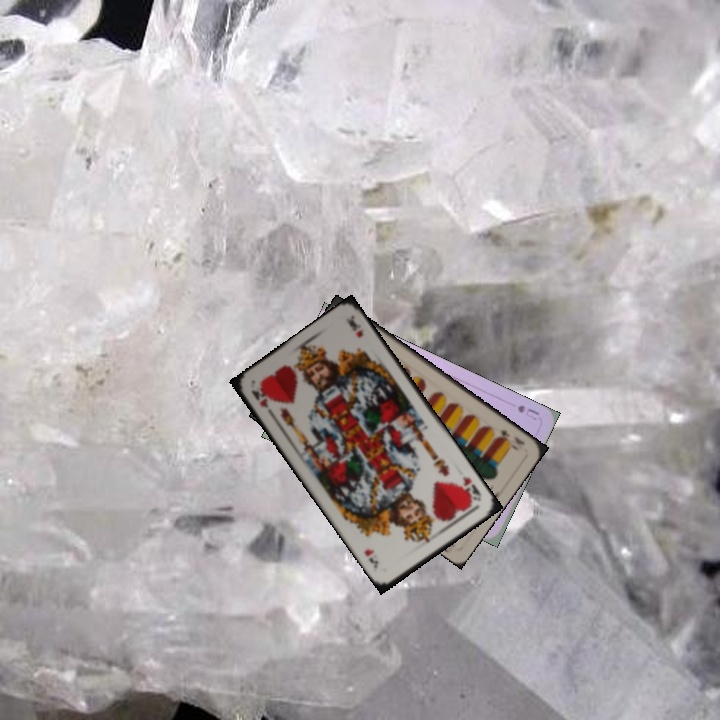E10: (493, 425, 528, 453)
HK: (247, 385, 277, 420), (457, 472, 484, 504)
SU: (513, 401, 542, 423)
